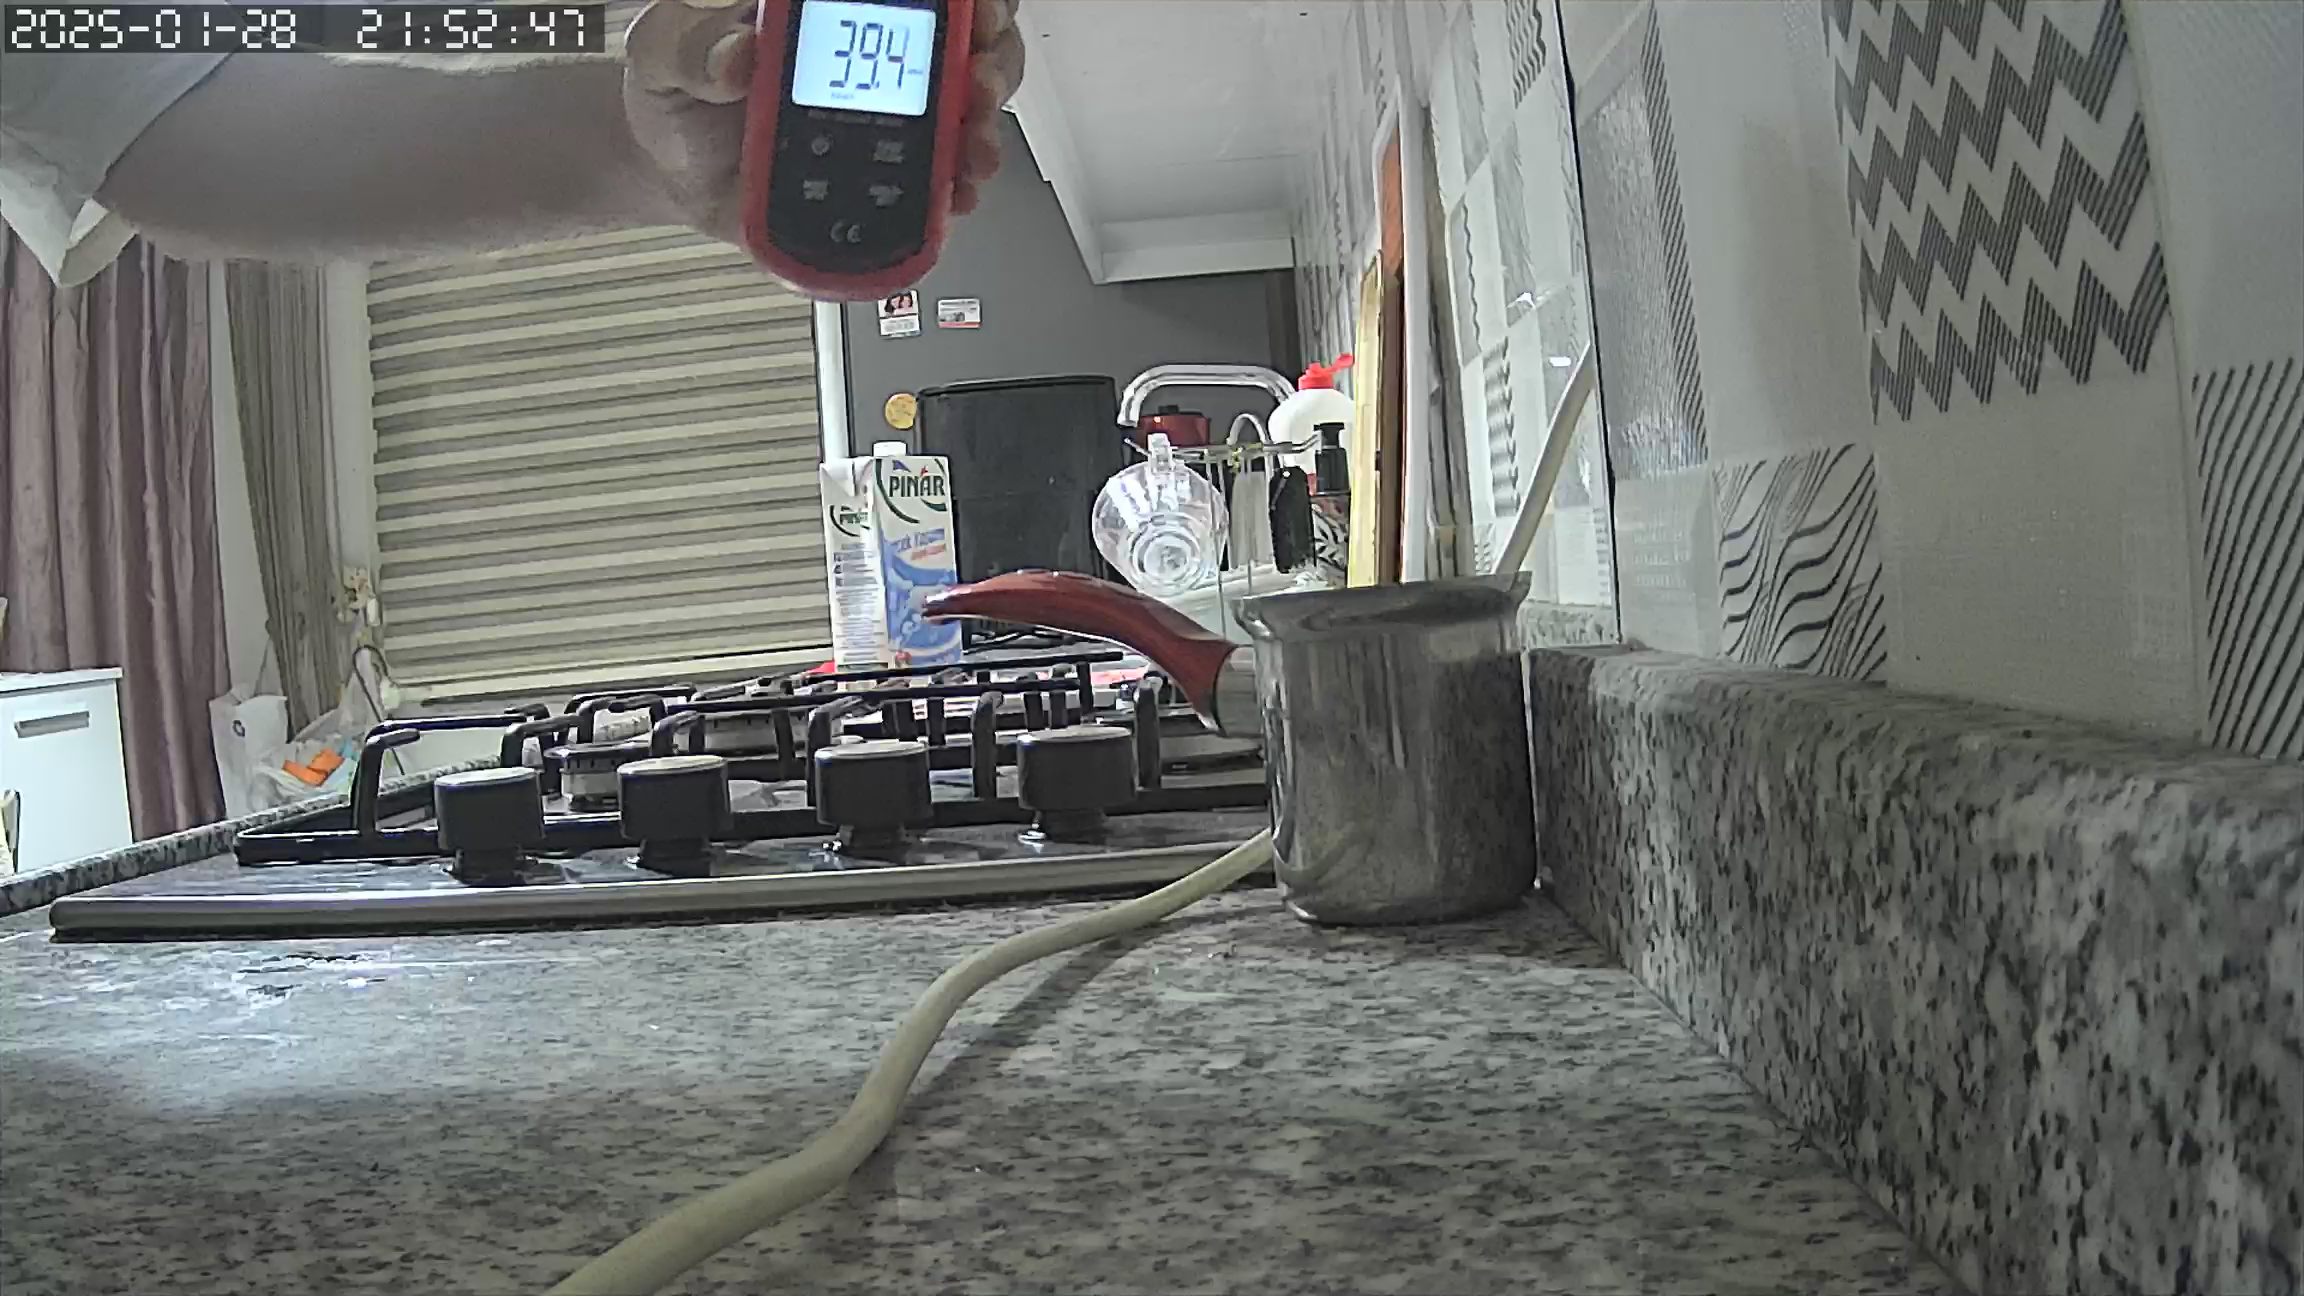screen: (791, 2, 938, 117)
